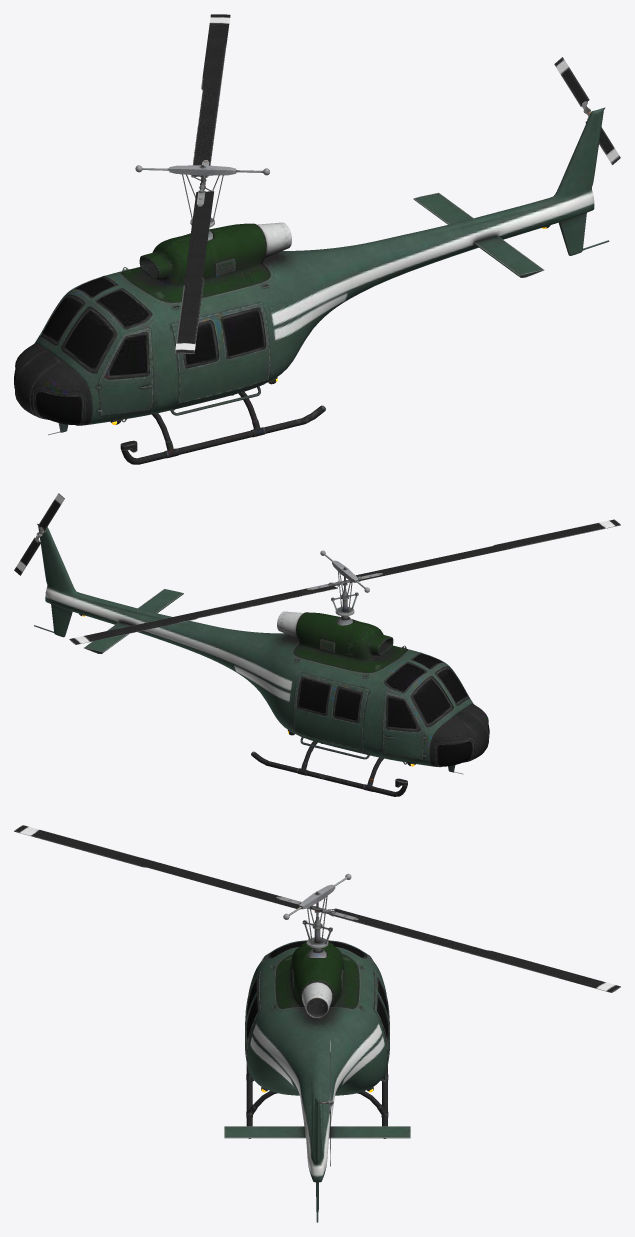
Rendered from helicopter.glb.
3 views of the same model, one above another, from view 1: azimuth 30°, elevation 25°; view 2: azimuth 150°, elevation 25°; view 3: azimuth 270°, elevation 25° (orthographic). The views are drawn at different scales.
Visible parts, largest first — view 1: Object_4, Object_3, Object_2; view 2: Object_4, Object_3, Object_2; view 3: Object_4, Object_3, Object_2.
Boxes of the visible parts, x1,y1,x2,y2 form: Object_4: (14, 57, 620, 464); Object_3: (14, 14, 270, 425); Object_2: (33, 30, 235, 425); Object_4: (14, 493, 489, 796); Object_3: (69, 519, 620, 766); Object_2: (76, 525, 620, 767); Object_4: (224, 873, 620, 1222); Object_3: (14, 825, 620, 1042); Object_2: (14, 831, 610, 1074).
Size of the model in its own units: 1.43 by 0.5729 by 1.37.
1 material, 1 textured.
